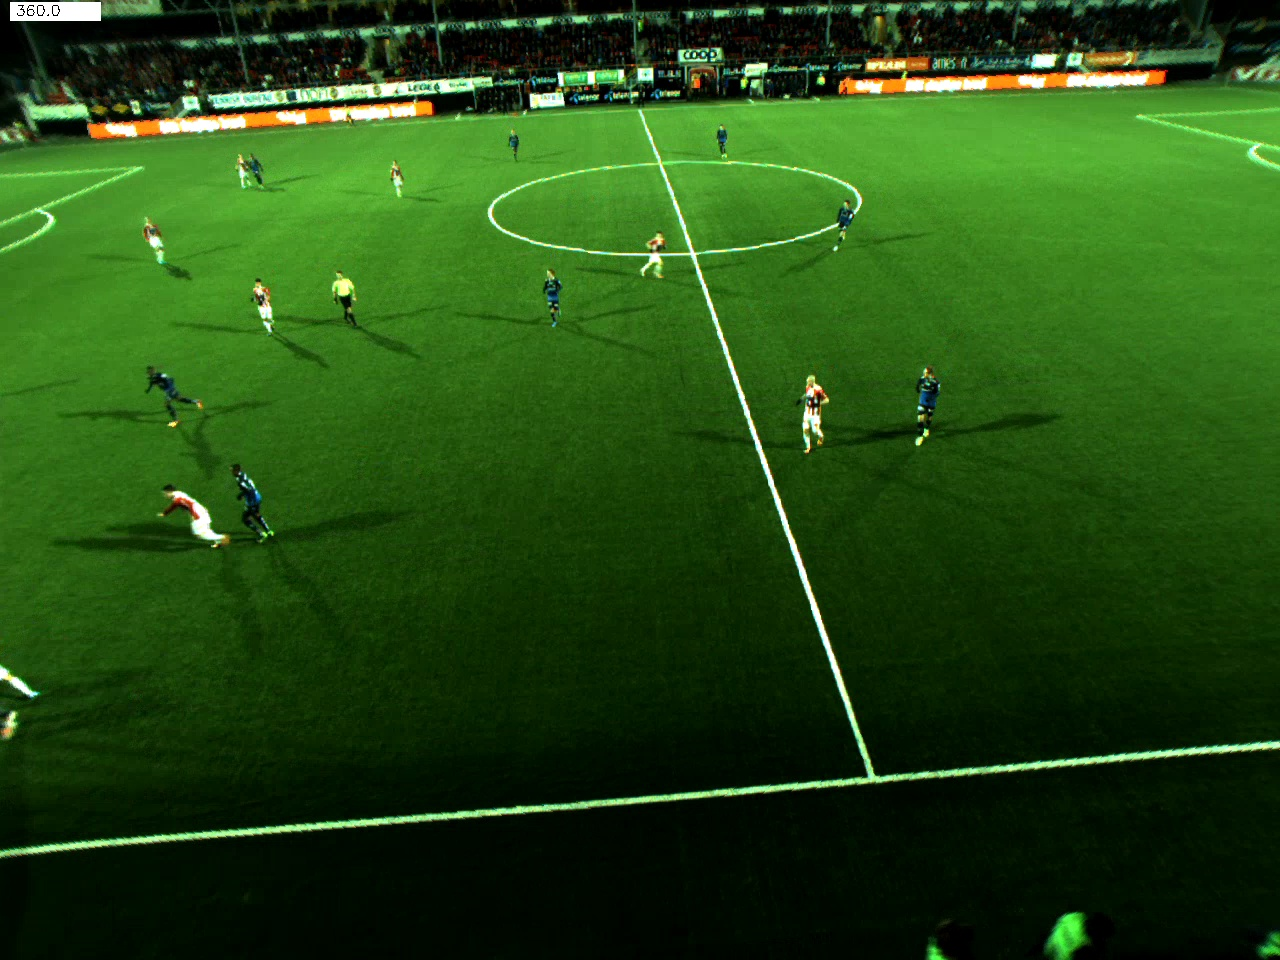blue: (227, 459, 302, 541), (138, 369, 216, 427), (905, 363, 937, 449), (541, 271, 570, 328), (828, 196, 855, 252), (238, 148, 270, 192), (501, 128, 528, 159), (710, 120, 730, 159)
red: (156, 464, 224, 577), (138, 200, 178, 281), (245, 273, 280, 335), (794, 367, 821, 445), (639, 230, 670, 285), (381, 156, 405, 214), (227, 149, 249, 185)
yellow: (327, 270, 364, 332)
